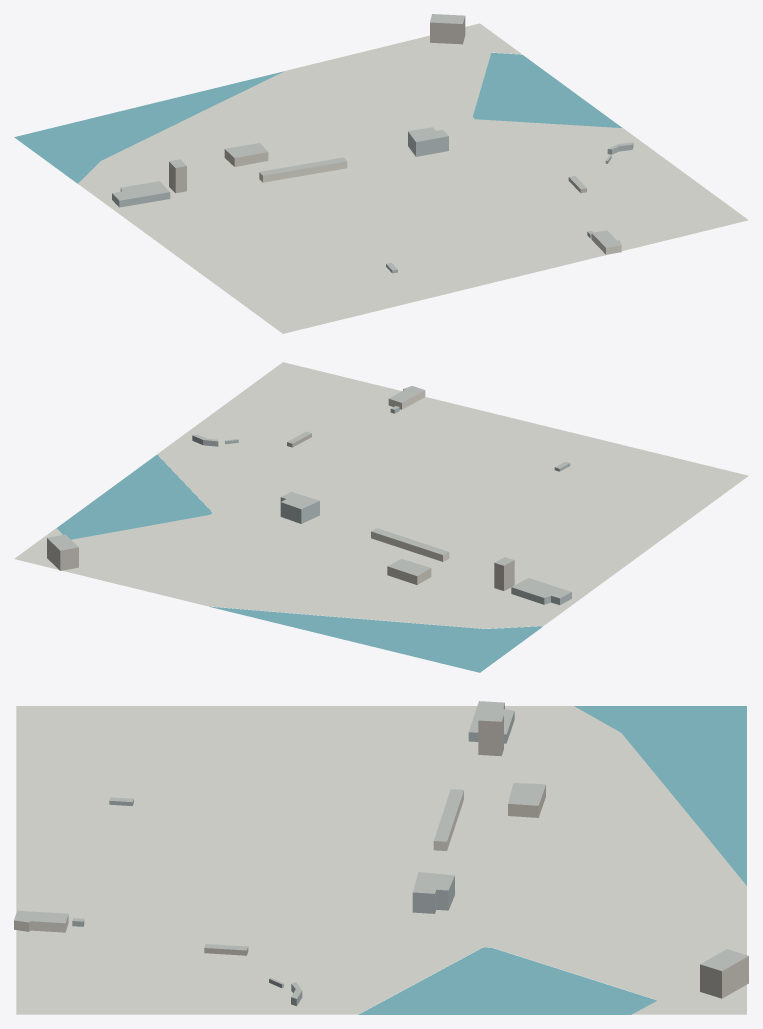
3 renders of one model, top to bottom at view 1: azimuth 30°, elevation 25°; view 2: azimuth 150°, elevation 25°; view 3: azimuth 270°, elevation 25°, orthographic. The views are drawn at different scales.
Parts seen in each view (by area): view 1: city; view 2: city; view 3: city.
Part boxes in pixels (x1,y1,x2,y2): city: (14,14,748,333); city: (14,362,748,672); city: (14,701,748,1014).
Size of the model in its own units: 500 by 26.18 by 503.
